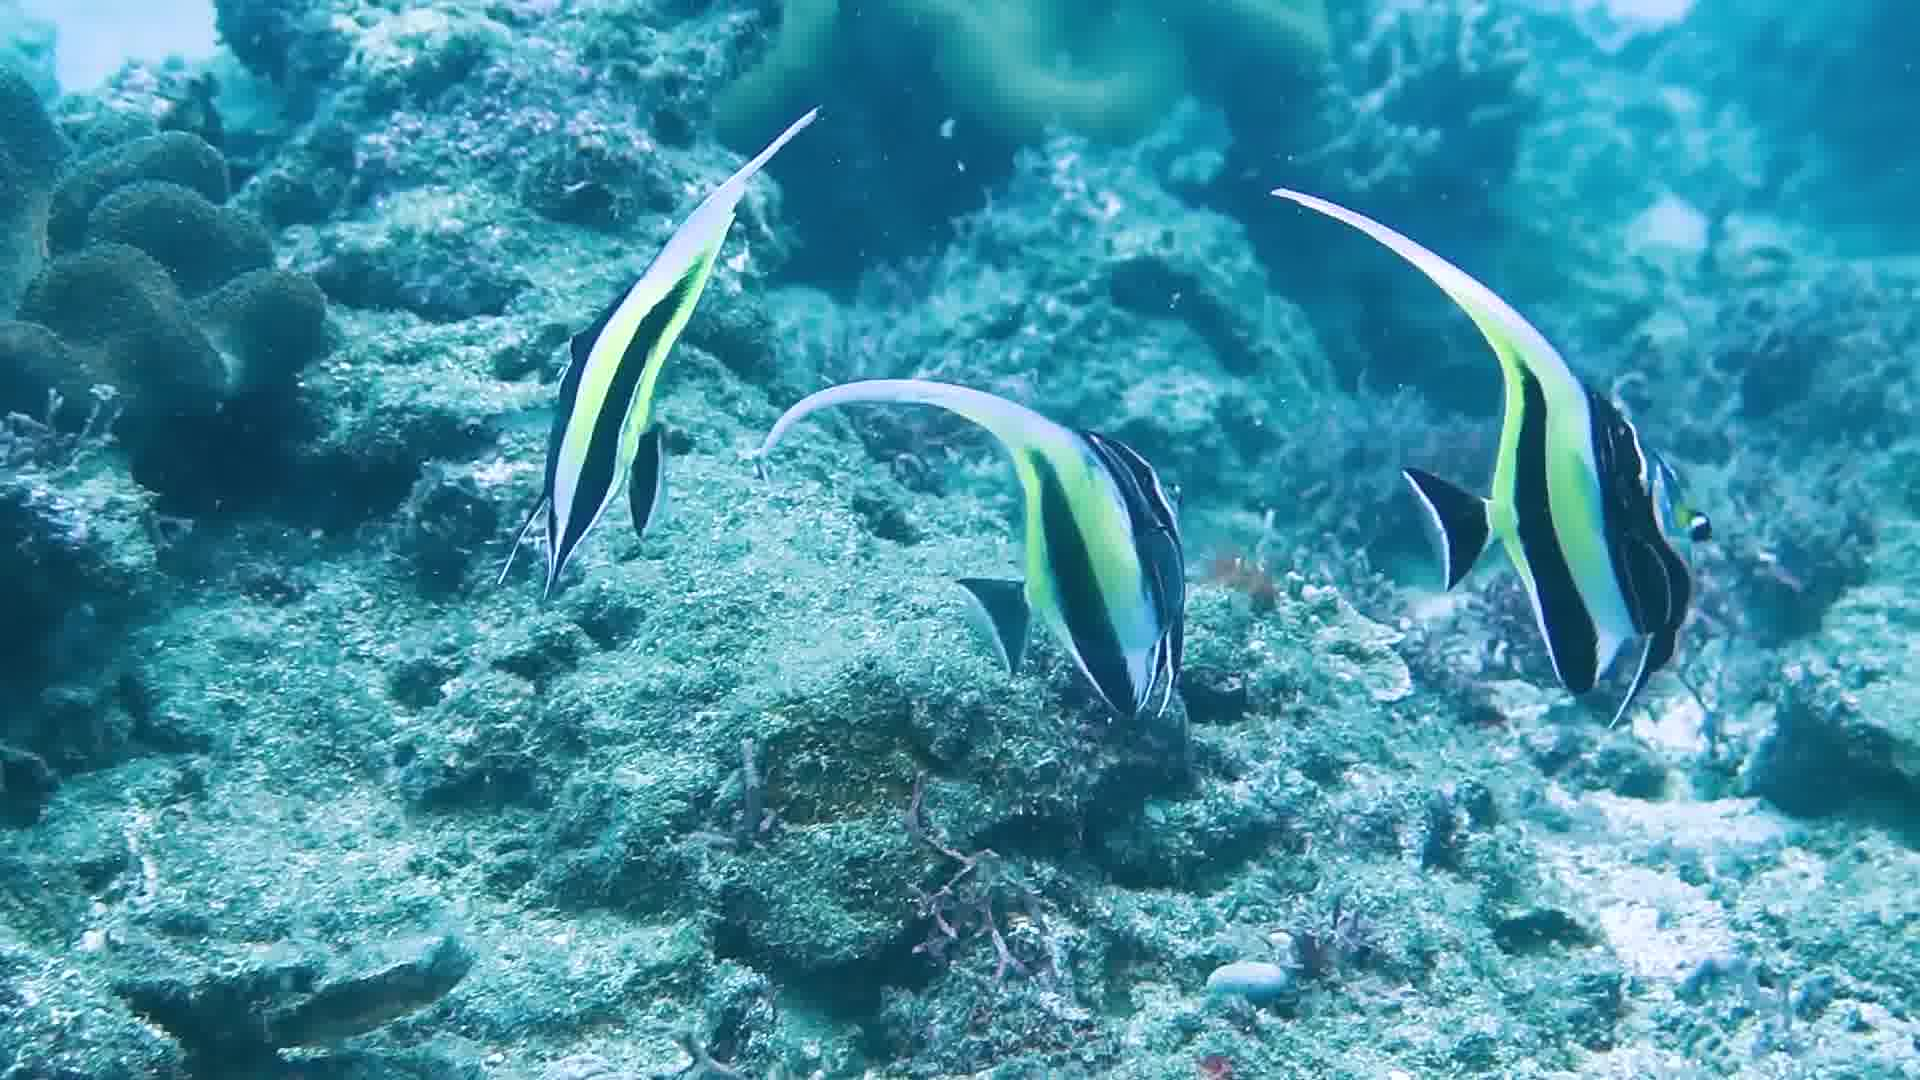Zanclus cornutus: (1418, 258, 1712, 684), (527, 229, 720, 582), (981, 406, 1203, 709)
